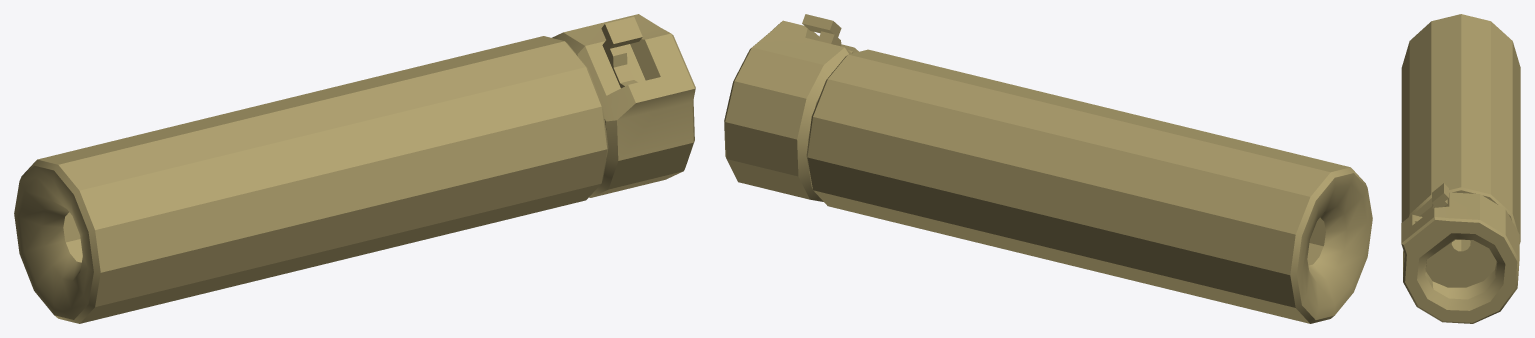
File: Suppressor_00test.fbx
3 renders of one model, left to right at view 1: azimuth 30°, elevation 25°; view 2: azimuth 150°, elevation 25°; view 3: azimuth 270°, elevation 25°, orthographic. The views are drawn at different scales.
Parts seen in each view (by area): view 1: suppressor, polySurface2, pCube1; view 2: suppressor, polySurface2, pCube1; view 3: suppressor, polySurface2, pCube1.
Part boxes in pixels (<box>): suppressor: <box>14,36,608,323</box>; polySurface2: <box>552,14,695,197</box>; pCube1: <box>601,17,642,88</box>; suppressor: <box>806,49,1372,323</box>; polySurface2: <box>724,20,858,201</box>; pCube1: <box>802,14,853,53</box>; suppressor: <box>1401,14,1520,251</box>; polySurface2: <box>1401,192,1519,323</box>; pCube1: <box>1414,183,1448,222</box>.
Bounding box in the file's own units: 15.99 × 4.42 × 3.93.
